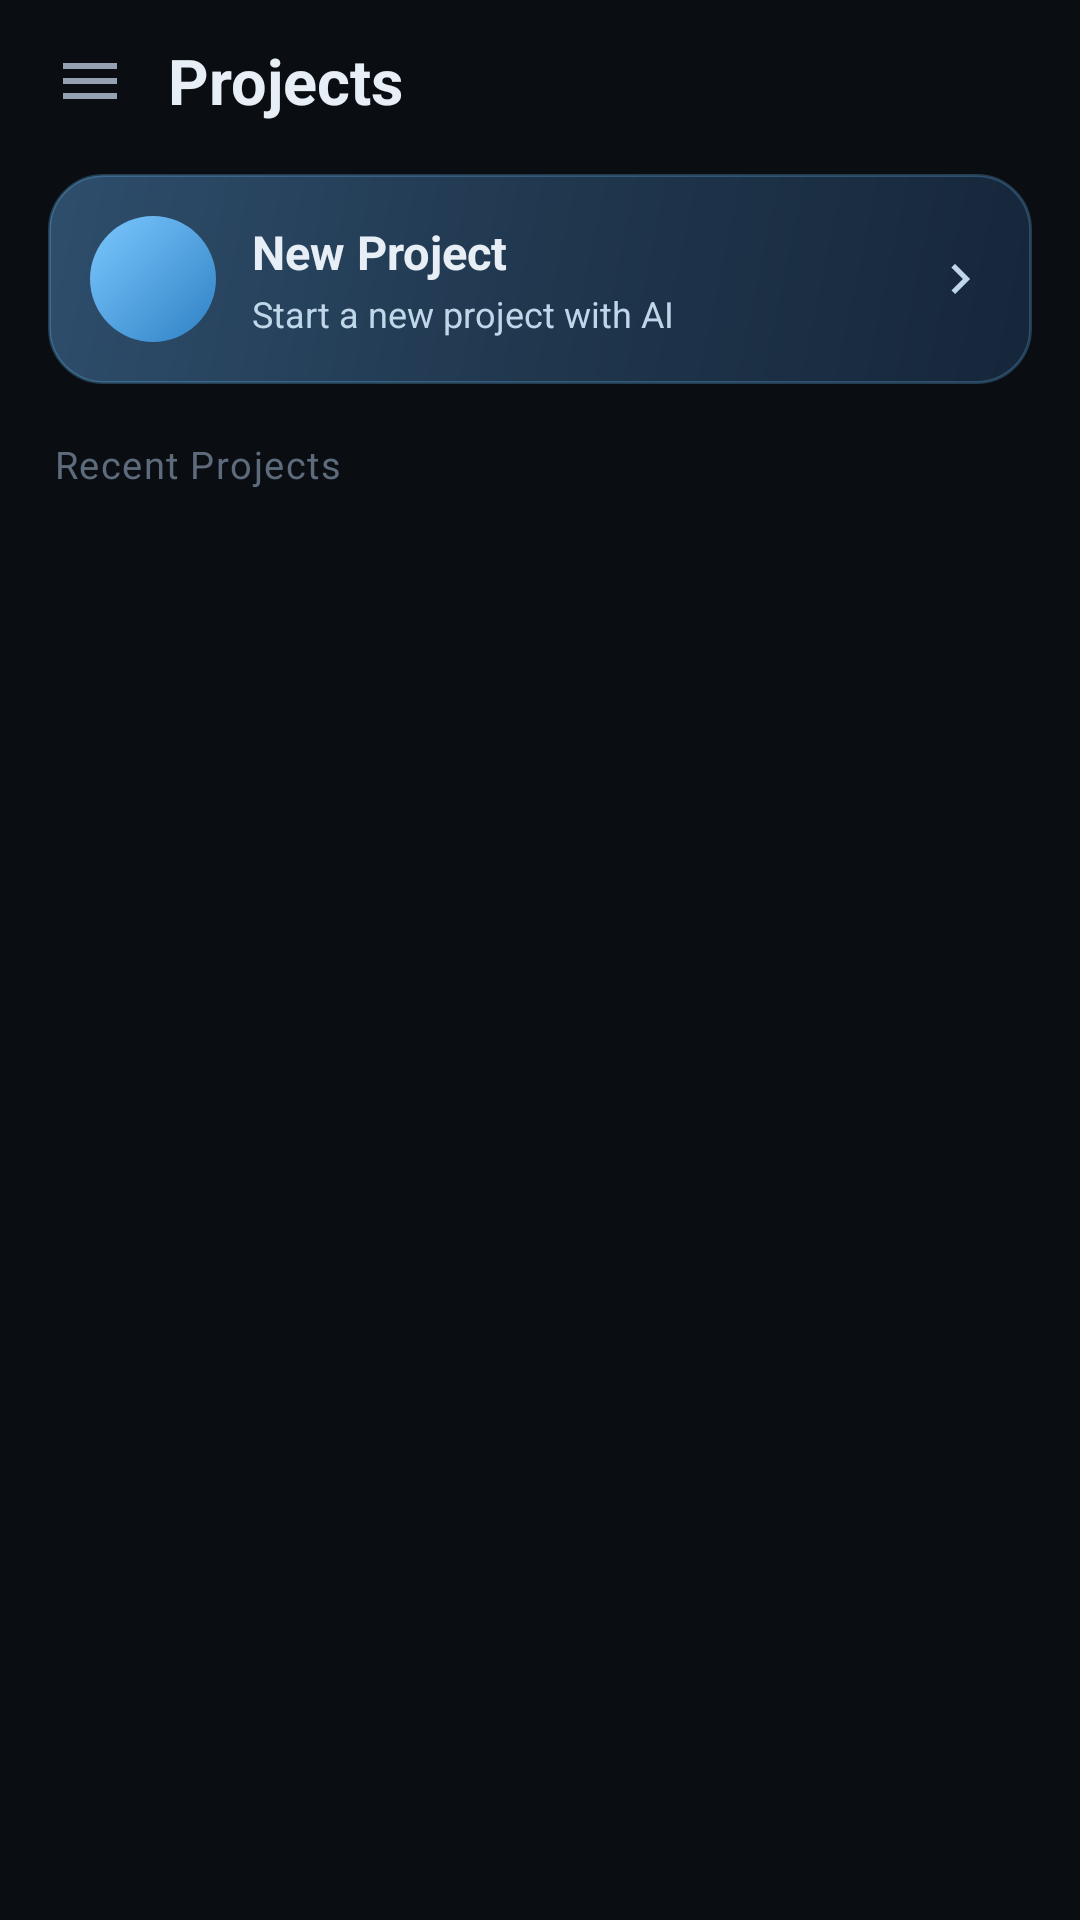

Where icons sit on this 1080*1920 app screen, as bbox(x1, y1, x2, y2):
chevron: bbox(951, 264, 970, 294)
Menu: bbox(63, 63, 117, 99)
